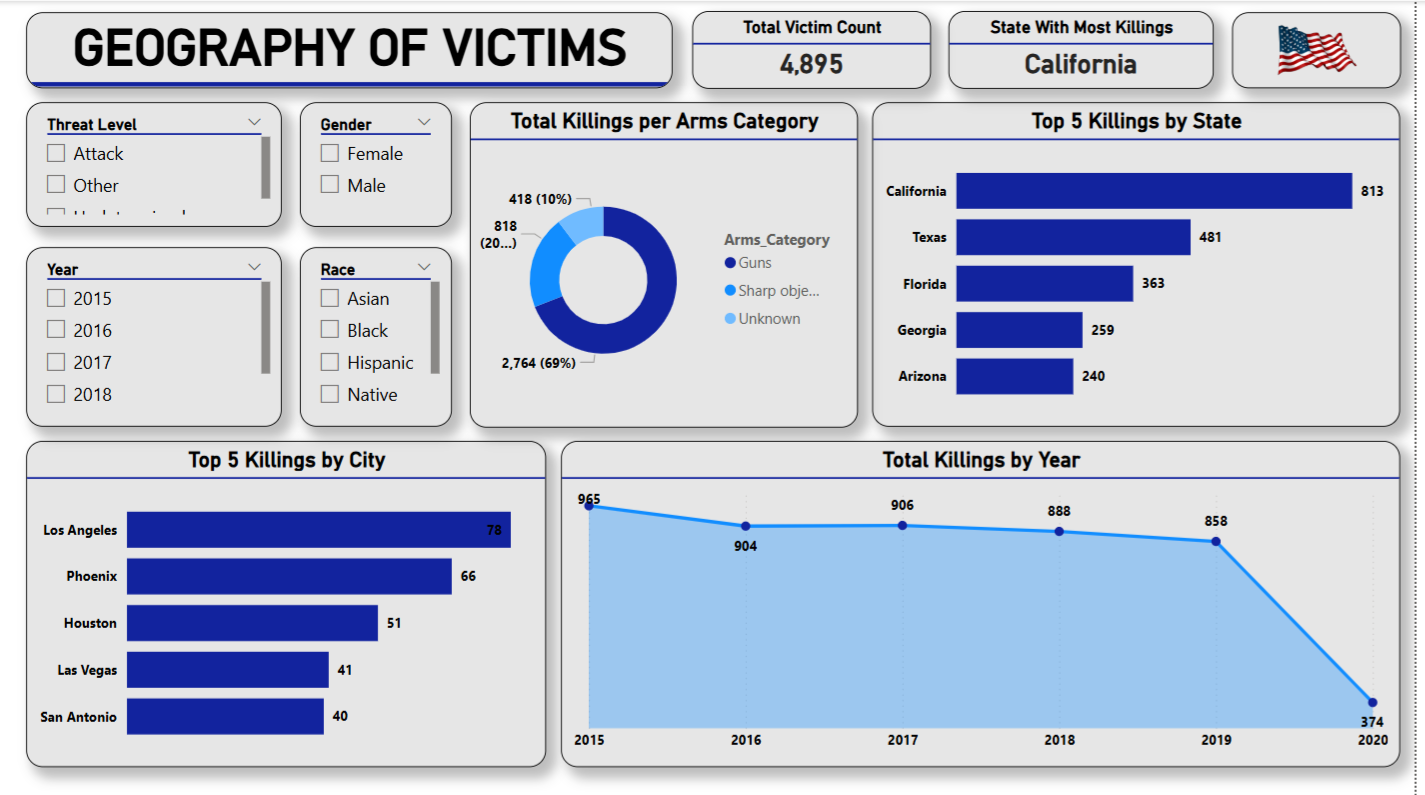

This screenshot's page, from the dashboard's own definition file:
{"tool":"powerbi","page":{"name":"Geography","canvas":[1280,720],"ordinal":2},"visuals":[{"type":"clusteredBarChart","title":"Top 5 Killings by City","fields":{"Category":["Victims Demographics.City"],"Y":["New_Measures.Total Killings"]},"box":[23.7,398,470.4,295.1],"z":0},{"type":"clusteredBarChart","title":"Top 5 Killings by State","fields":{"Category":["Geography.State"],"Y":["New_Measures.Total Killings"]},"box":[789,91.9,477.5,293.7],"z":1000},{"type":"textbox","title":"GEOGRAPHY OF VICTIMS ","box":[23.7,10.2,584.6,69],"z":2000},{"type":"image","box":[1114.8,10.2,152.6,69],"z":3000},{"type":"slicer","fields":{"Values":["Victims Demographics.Race"]},"box":[270.9,223.3,137.2,162.8],"z":4000},{"type":"slicer","fields":{"Values":["Victims Demographics.Gender"]},"box":[270.9,91.9,137.2,112.8],"z":5000},{"type":"slicer","fields":{"Values":["Victims Demographics.Threat_Level"]},"box":[23.3,91.9,231.4,112.8],"z":6000},{"type":"card","title":"State With Most  Killings","fields":{"Values":["New_Measures.Max Killings by State"]},"box":[858.2,9,239.7,70.1],"z":7000},{"type":"donutChart","title":"% Killings per Arms Category","fields":{"Category":["Victims Demographics.Arms_Category"],"Y":["New_Measures.Total Killings"]},"box":[425.6,91.9,351.2,294.2],"z":8000},{"type":"card","title":"Total Victim Count","fields":{"Values":["New_Measures.Total Killings"]},"box":[626.4,9,216,70.1],"z":9000},{"type":"slicer","fields":{"Values":["Event Date.Year"]},"box":[23.3,223.3,231.4,162.8],"z":10000},{"type":"lineChart","fields":{"Y":["New_Measures.Total Killings"],"Category":["Event Date.Year Hierarchy.Year","Event Date.Year Hierarchy.Quarter","Event Date.Year Hierarchy.Month","Event Date.Year Hierarchy.Day"]},"box":[508.2,398,759.2,295.4],"z":11000}]}

Visuals, with their boxes in screenshot pixels (x1, y1, x2, y2), scaled from the page's 1280x720 canvas onto the 1425x795 screenshot:
"Top 5 Killings by City" clusteredBarChart: (26, 439, 550, 765)
"Top 5 Killings by State" clusteredBarChart: (878, 101, 1410, 426)
"GEOGRAPHY OF VICTIMS " textbox: (26, 11, 677, 87)
image: (1241, 11, 1411, 87)
slicer - Victims Demographics.Race: (302, 247, 454, 426)
slicer - Victims Demographics.Gender: (302, 101, 454, 226)
slicer - Victims Demographics.Threat_Level: (26, 101, 284, 226)
"State With Most  Killings" card: (955, 10, 1222, 87)
"% Killings per Arms Category" donutChart: (474, 101, 865, 426)
"Total Victim Count" card: (697, 10, 938, 87)
slicer - Event Date.Year: (26, 247, 284, 426)
lineChart - New_Measures.Total Killings x Event Date.Year Hierarchy.Year: (566, 439, 1411, 766)
